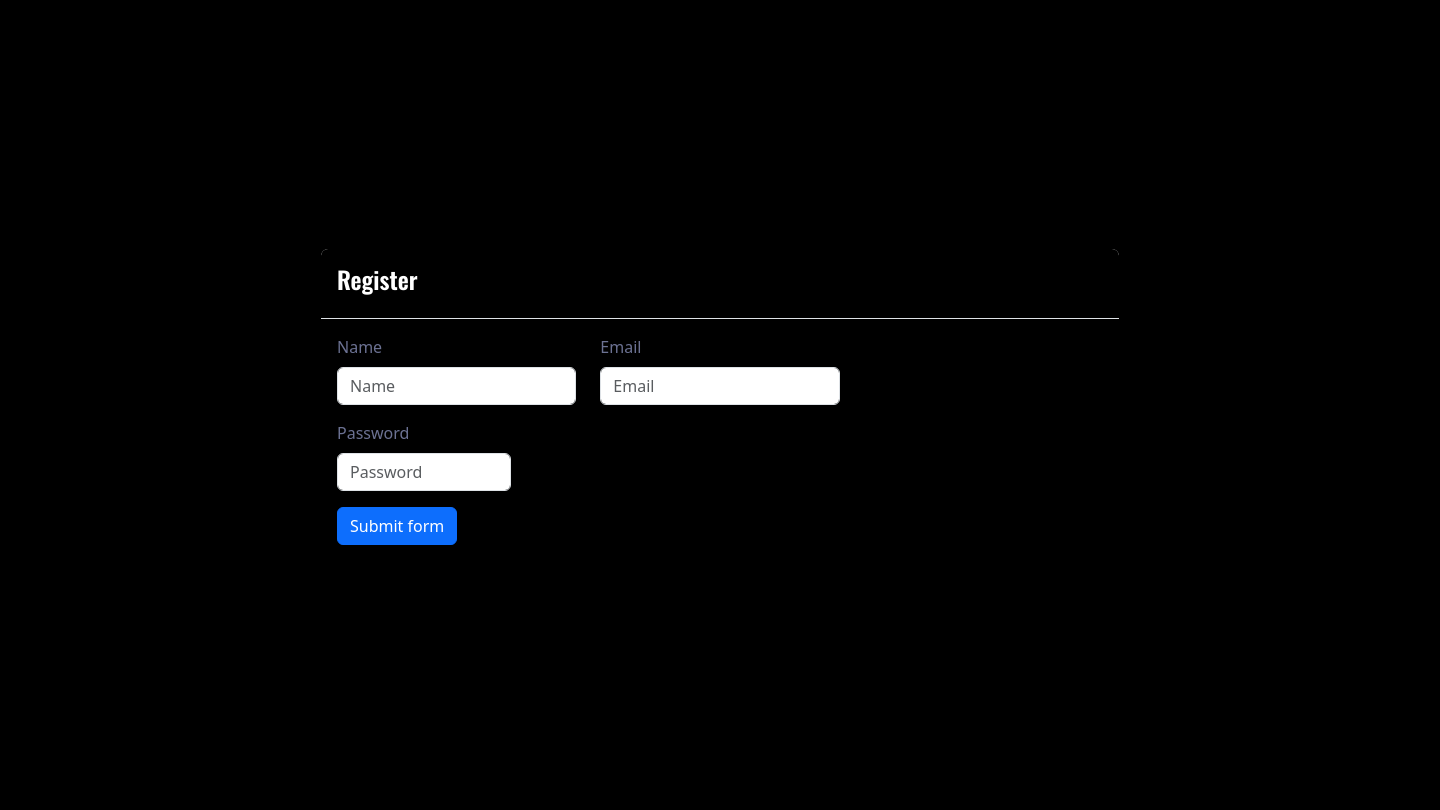
Registration component › shows validation error message when password is empty
Type "John Doe" into the field with placeholder "Name" at (457, 386), box [337, 367, 576, 405]
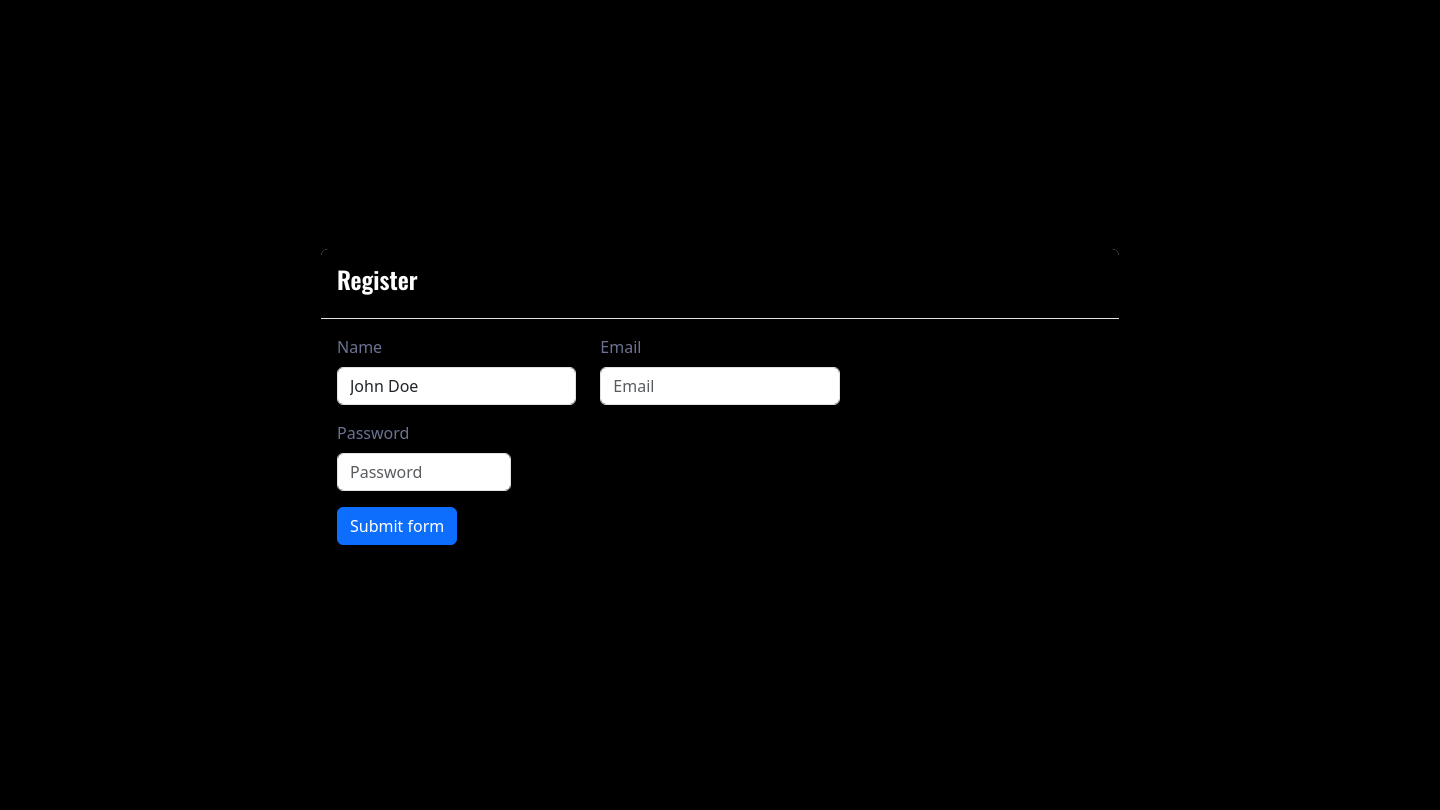
Type "test@example.com" into the field with placeholder "Email" at (720, 386), box [600, 367, 840, 405]
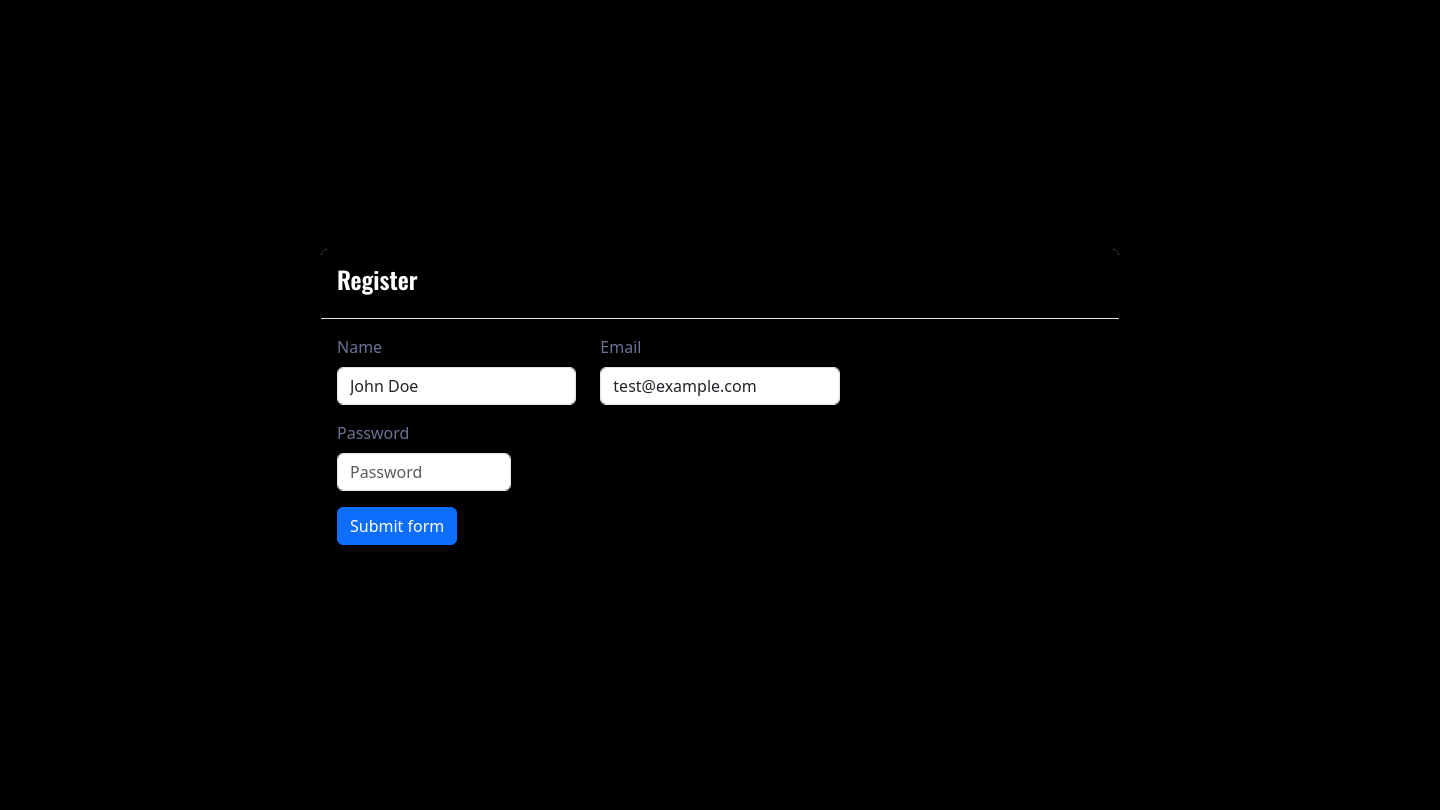
Click the button "Submit form" at (397, 526), box [337, 507, 457, 545]
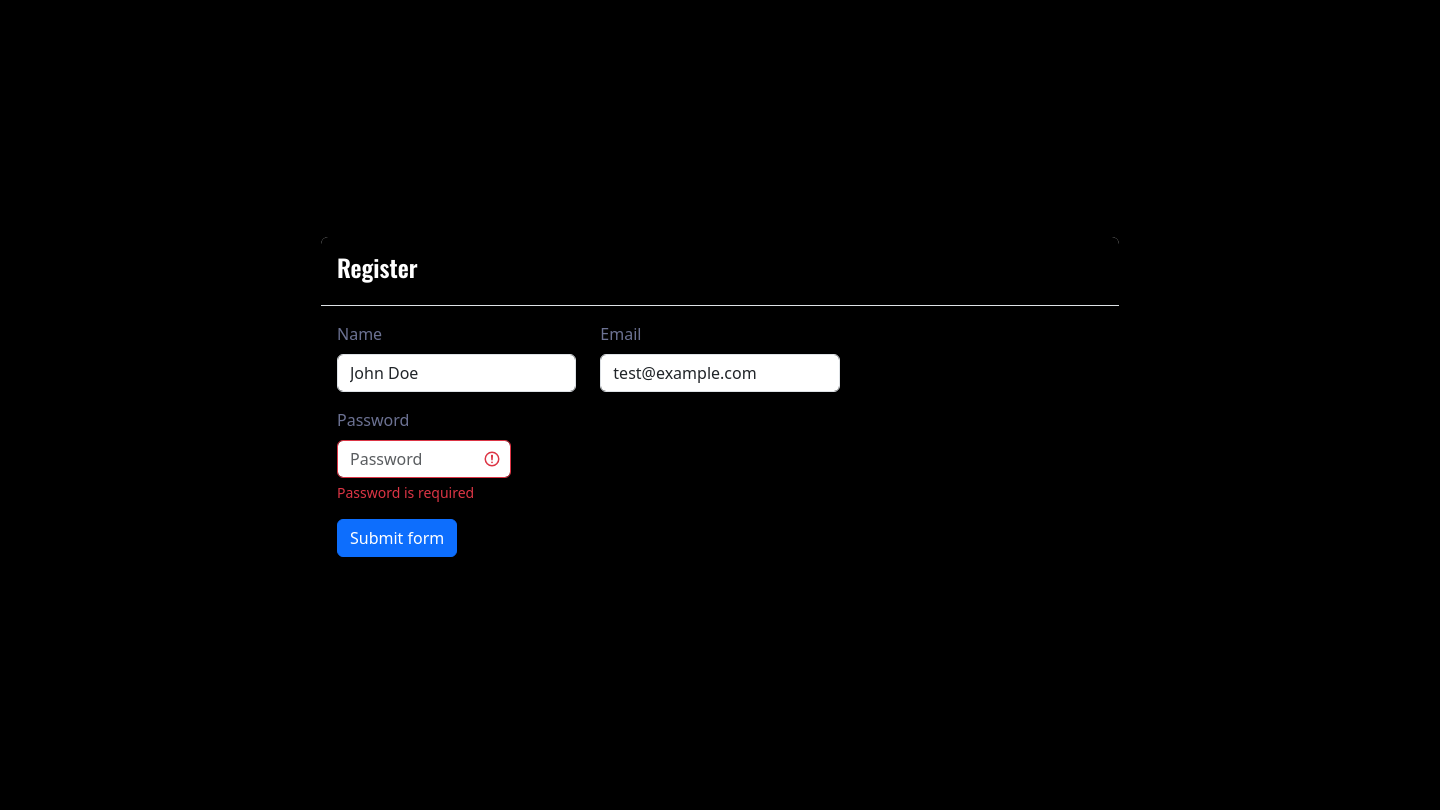
Check: the text "Password is required" is shown, box [337, 483, 474, 502]
